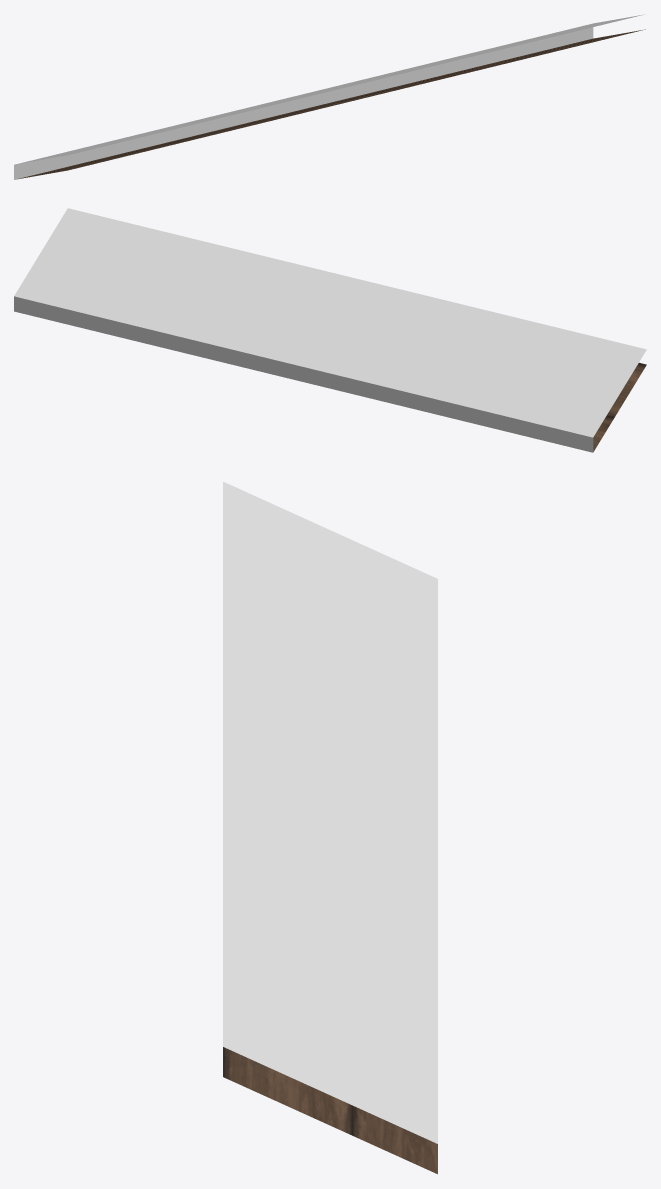
The model's file is Roof_3mH_Edge_A.fbx.
3 views of the same model, one above another, from view 1: azimuth 30°, elevation 25°; view 2: azimuth 150°, elevation 25°; view 3: azimuth 270°, elevation 25° (orthographic). The views are drawn at different scales.
Parts seen in each view (by area): view 1: Roof_3mH_Edge_A; view 2: Roof_3mH_Edge_A; view 3: Roof_3mH_Edge_A.
Part boxes in pixels (left/top/right/bottom): Roof_3mH_Edge_A: left=14, top=14, right=645, bottom=179; Roof_3mH_Edge_A: left=14, top=208, right=646, bottom=452; Roof_3mH_Edge_A: left=223, top=481, right=437, bottom=1174.
Bounding box in the file's own units: 6 × 0.966 × 0.633.
